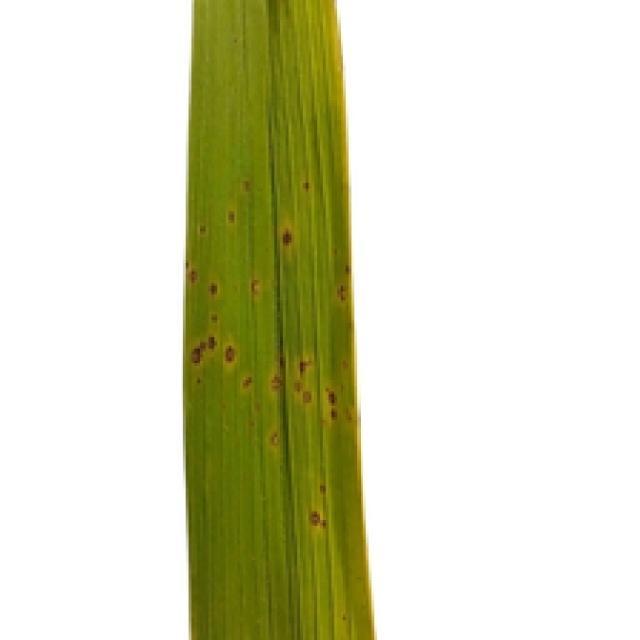Rice___Brown_Spot: (180, 1, 379, 637)
